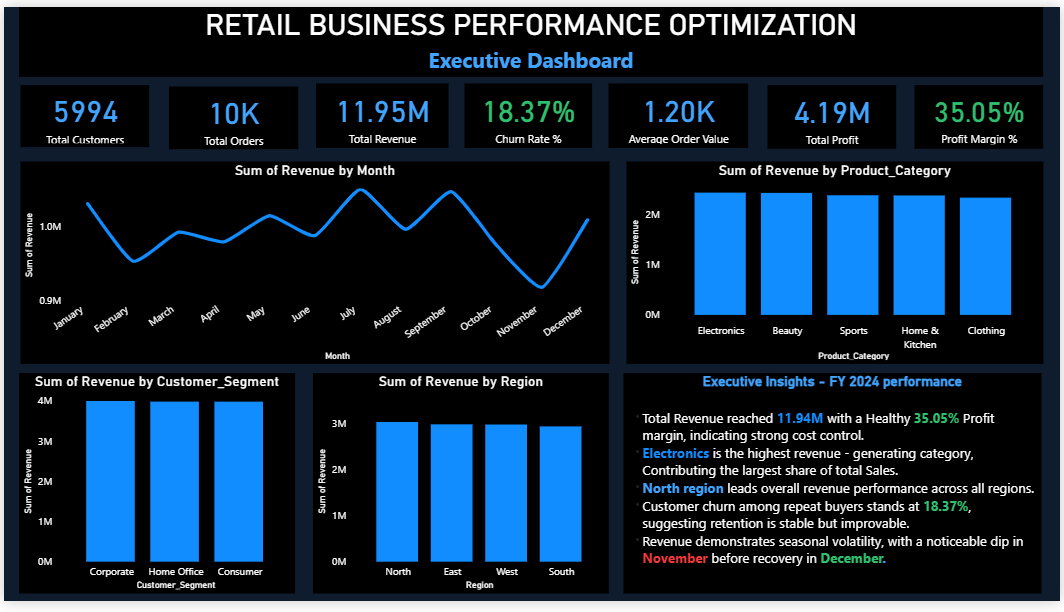

The page's visual inventory and layout, read from the dashboard file:
{"tool":"powerbi","page":{"name":"Executive Dashboard","canvas":[1280,720],"ordinal":0},"visuals":[{"type":"card","fields":{"Values":["Business_Analytics_Dataset_1000.average order value (aov)"]},"box":[732.6,93.3,169.6,78.3],"z":2},{"type":"card","fields":{"Values":["Business_Analytics_Dataset_1000.total Profit"]},"box":[925.7,94.7,156.1,77.2],"z":5},{"type":"card","fields":{"Values":["Business_Analytics_Dataset_1000.total Customers"]},"box":[20.4,94.7,156.1,75.4],"z":6},{"type":"card","fields":{"Values":["Business_Analytics_Dataset_1000.total orders"]},"box":[200,95.5,156.5,76.1],"z":7},{"type":"card","fields":{"Values":["Business_Analytics_Dataset_1000.profit margin %"]},"box":[1102.9,94.7,156.1,77.2],"z":8},{"type":"card","fields":{"Values":["Customer Summary.Churn rate %"]},"box":[558.7,93.3,154.3,78.3],"z":9},{"type":"card","fields":{"Values":["Business_Analytics_Dataset_1000.total revenue"]},"box":[378.3,93.3,160.9,78.3],"z":10},{"type":"lineChart","fields":{"Y":["Sum(Business_Analytics_Dataset_1000.Revenue)"],"Category":["Business_Analytics_Dataset_1000.order year-month.Variation.Date Hierarchy.Month"]},"box":[20.4,186.7,714,245.6],"z":11},{"type":"columnChart","fields":{"Category":["Business_Analytics_Dataset_1000.Product_Category"],"Y":["Sum(Business_Analytics_Dataset_1000.Revenue)"]},"box":[753.8,186.7,505.3,245.6],"z":12},{"type":"columnChart","fields":{"Category":["Business_Analytics_Dataset_1000.Customer_Segment"],"Y":["Sum(Business_Analytics_Dataset_1000.Revenue)"]},"box":[18.8,443.5,334.8,267.4],"z":15},{"type":"columnChart","fields":{"Category":["Business_Analytics_Dataset_1000.Region"],"Y":["Sum(Business_Analytics_Dataset_1000.Revenue)"]},"box":[373.9,443.5,358.7,267.4],"z":16},{"type":"textbox","title":"Executive Insights - FY 2024 performance","box":[751.4,443.5,506.5,267.4],"z":17},{"type":"textbox","title":"RETAIL BUSINESS PERFORMANCE OPTIMIZATION","box":[17.4,0,1241.3,84.8],"z":18}]}

Visuals, with their boxes in screenshot pixels (x1, y1, x2, y2), scaled from the page's 1280x720 canvas onto the 1064x612 screenshot:
card - Business_Analytics_Dataset_1000.average order value (aov): x1=609 y1=79 x2=750 y2=146
card - Business_Analytics_Dataset_1000.total Profit: x1=769 y1=80 x2=899 y2=146
card - Business_Analytics_Dataset_1000.total Customers: x1=17 y1=80 x2=147 y2=145
card - Business_Analytics_Dataset_1000.total orders: x1=166 y1=81 x2=296 y2=146
card - Business_Analytics_Dataset_1000.profit margin %: x1=917 y1=80 x2=1047 y2=146
card - Customer Summary.Churn rate %: x1=464 y1=79 x2=593 y2=146
card - Business_Analytics_Dataset_1000.total revenue: x1=314 y1=79 x2=448 y2=146
lineChart - Sum(Business_Analytics_Dataset_1000.Revenue) x Business_Analytics_Dataset_1000.order year-month.Variation.Date Hierarchy.Month: x1=17 y1=159 x2=610 y2=367
columnChart - Business_Analytics_Dataset_1000.Product_Category x Sum(Business_Analytics_Dataset_1000.Revenue): x1=627 y1=159 x2=1047 y2=367
columnChart - Business_Analytics_Dataset_1000.Customer_Segment x Sum(Business_Analytics_Dataset_1000.Revenue): x1=16 y1=377 x2=294 y2=604
columnChart - Business_Analytics_Dataset_1000.Region x Sum(Business_Analytics_Dataset_1000.Revenue): x1=311 y1=377 x2=609 y2=604
"Executive Insights - FY 2024 performance" textbox: x1=625 y1=377 x2=1046 y2=604
"RETAIL BUSINESS PERFORMANCE OPTIMIZATION" textbox: x1=14 y1=0 x2=1046 y2=72
